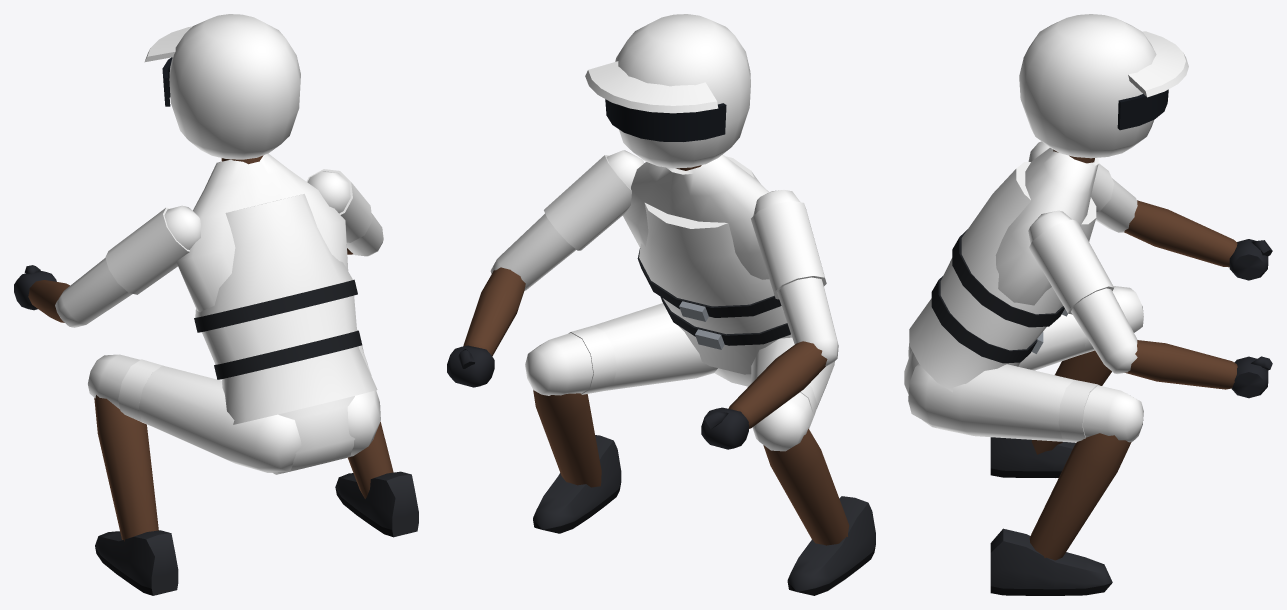
Rendered from dax.glb.
The picture shows the model from 3 angles, left to right: view 1: azimuth 30°, elevation 25°; view 2: azimuth 150°, elevation 25°; view 3: azimuth 270°, elevation 25°; orthographic projection. The views are drawn at different scales.
Parts seen in each view (by area): view 1: Vest, Helmet, Torso, ThighLeft, ShinLeft, BootLeft, UpperArmLeft, SleeveLeft, BootRight, Strap2, Strap1, UpperArmRight (+7 smaller); view 2: Vest, Helmet, ThighRight, Torso, ShinLeft, SleeveRight, SleeveLeft, BootLeft, ShinRight, BootRight, Peak, UpperArmLeft (+10 smaller); view 3: Helmet, Vest, ThighRight, Torso, ShinRight, BootRight, SleeveRight, UpperArmRight, ForearmLeft, ForearmRight, ThighLeft, BootLeft (+10 smaller).
Part boxes in pixels (x1=…): Vest: x1=195, y1=194, x2=377, y2=424; Helmet: x1=169, y1=14, x2=300, y2=159; Torso: x1=176, y1=153, x2=354, y2=474; ThighLeft: x1=88, y1=354, x2=301, y2=472; ShinLeft: x1=94, y1=395, x2=158, y2=541; BootLeft: x1=95, y1=530, x2=178, y2=595; UpperArmLeft: x1=55, y1=205, x2=200, y2=327; SleeveLeft: x1=105, y1=207, x2=189, y2=294; BootRight: x1=335, y1=471, x2=418, y2=537; Strap2: x1=194, y1=279, x2=357, y2=332; Strap1: x1=214, y1=330, x2=362, y2=379; UpperArmRight: x1=307, y1=171, x2=383, y2=256; Vest: x1=639, y1=156, x2=791, y2=374; Helmet: x1=615, y1=14, x2=750, y2=168; ThighRight: x1=525, y1=303, x2=717, y2=395; Torso: x1=622, y1=154, x2=769, y2=386; ShinLeft: x1=763, y1=428, x2=849, y2=545; SleeveRight: x1=544, y1=155, x2=631, y2=250; SleeveLeft: x1=751, y1=201, x2=826, y2=299; BootLeft: x1=787, y1=496, x2=875, y2=595; ShinRight: x1=533, y1=390, x2=601, y2=487; BootRight: x1=533, y1=435, x2=621, y2=533; Peak: x1=585, y1=61, x2=718, y2=113; UpperArmLeft: x1=753, y1=190, x2=838, y2=365; Helmet: x1=1019, y1=14, x2=1156, y2=158; Vest: x1=909, y1=162, x2=1096, y2=392; ThighRight: x1=908, y1=364, x2=1143, y2=442; Torso: x1=904, y1=148, x2=1098, y2=428; ShinRight: x1=1029, y1=433, x2=1131, y2=560; BootRight: x1=990, y1=528, x2=1112, y2=595; SleeveRight: x1=1029, y1=219, x2=1114, y2=314; UpperArmRight: x1=1028, y1=210, x2=1137, y2=374; ForearmLeft: x1=1124, y1=200, x2=1237, y2=267; ForearmRight: x1=1125, y1=340, x2=1237, y2=389; ThighLeft: x1=908, y1=286, x2=1143, y2=370; BootLeft: x1=990, y1=437, x2=1075, y2=477.
Size of the model in its own units: 0.8919 by 1.32 by 0.8737.
